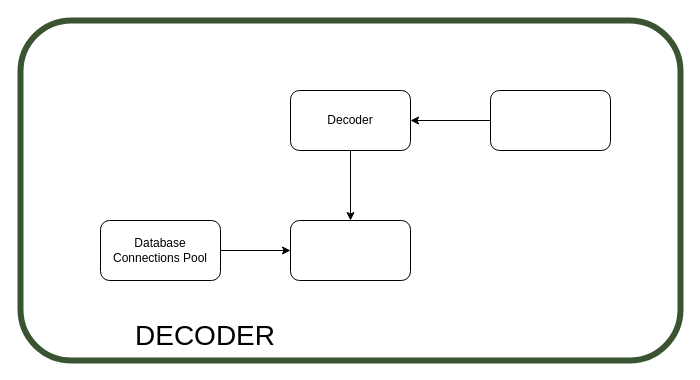
This 700x380 diagram has some shape labels left out. The shapes that lost their labels are listed below. From the top down, each one's centre as x and y in pixels, then its label:
At [550,120]: "Bytes Converter Converter.java".
At [350,250]: "DecoderMultiple".
